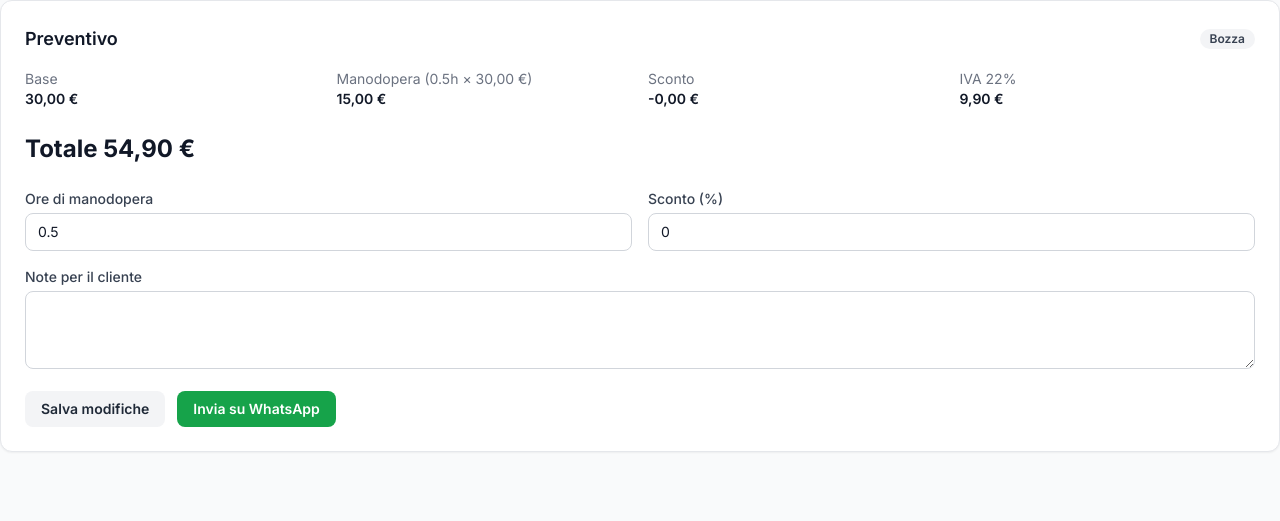
Test: QuoteEditor › saves labor hours / discount and shows the recalculated total
Replace the text in the number field labelled "Ore di manodopera" with "1.5" at (328, 232), box [25, 213, 632, 251]
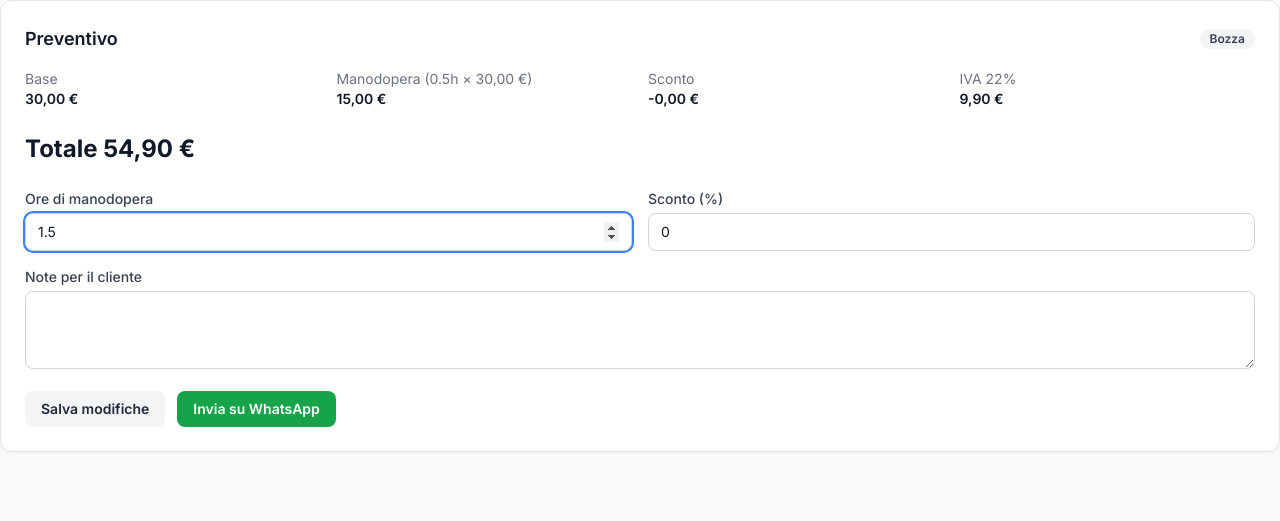
Replace the text in the number field labelled "Sconto (%)" with "5" at (952, 232), box [648, 213, 1255, 251]
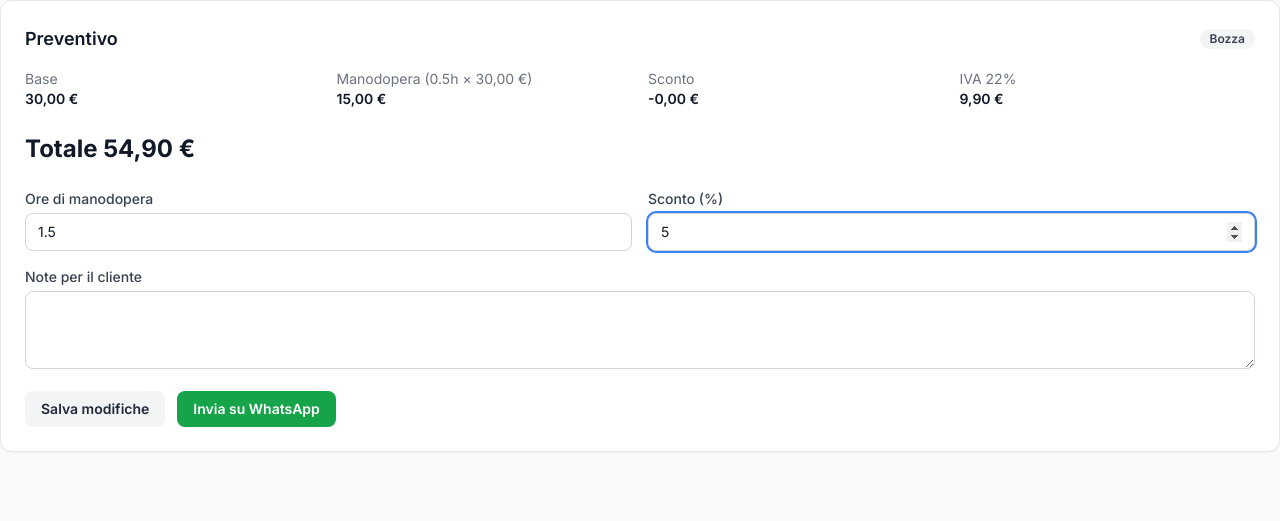
Click the button "Salva modifiche".
click(95, 409)  # box [25, 391, 165, 427]
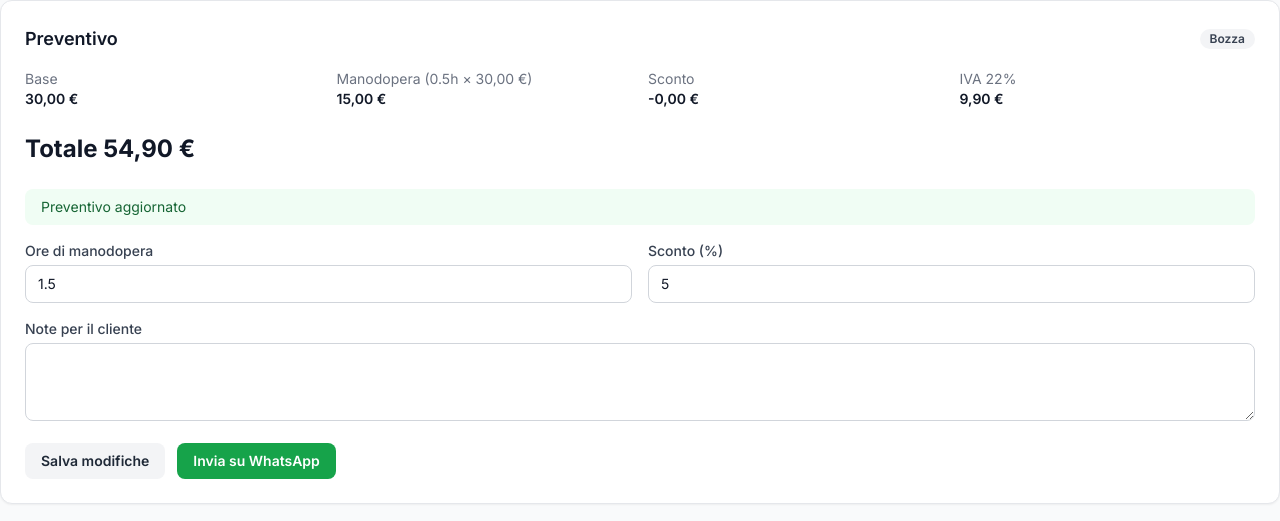
Expected: the message reads "Preventivo aggiornato", [41, 198, 186, 215]
